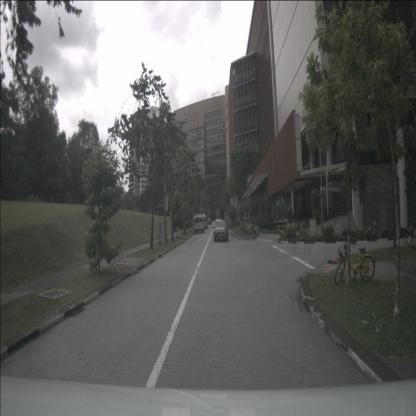vehicle-bicycle: (335, 230, 375, 284), (402, 225, 416, 250)
vehicle-car: (214, 220, 228, 242), (194, 214, 204, 233), (199, 214, 207, 230), (206, 218, 212, 224)
